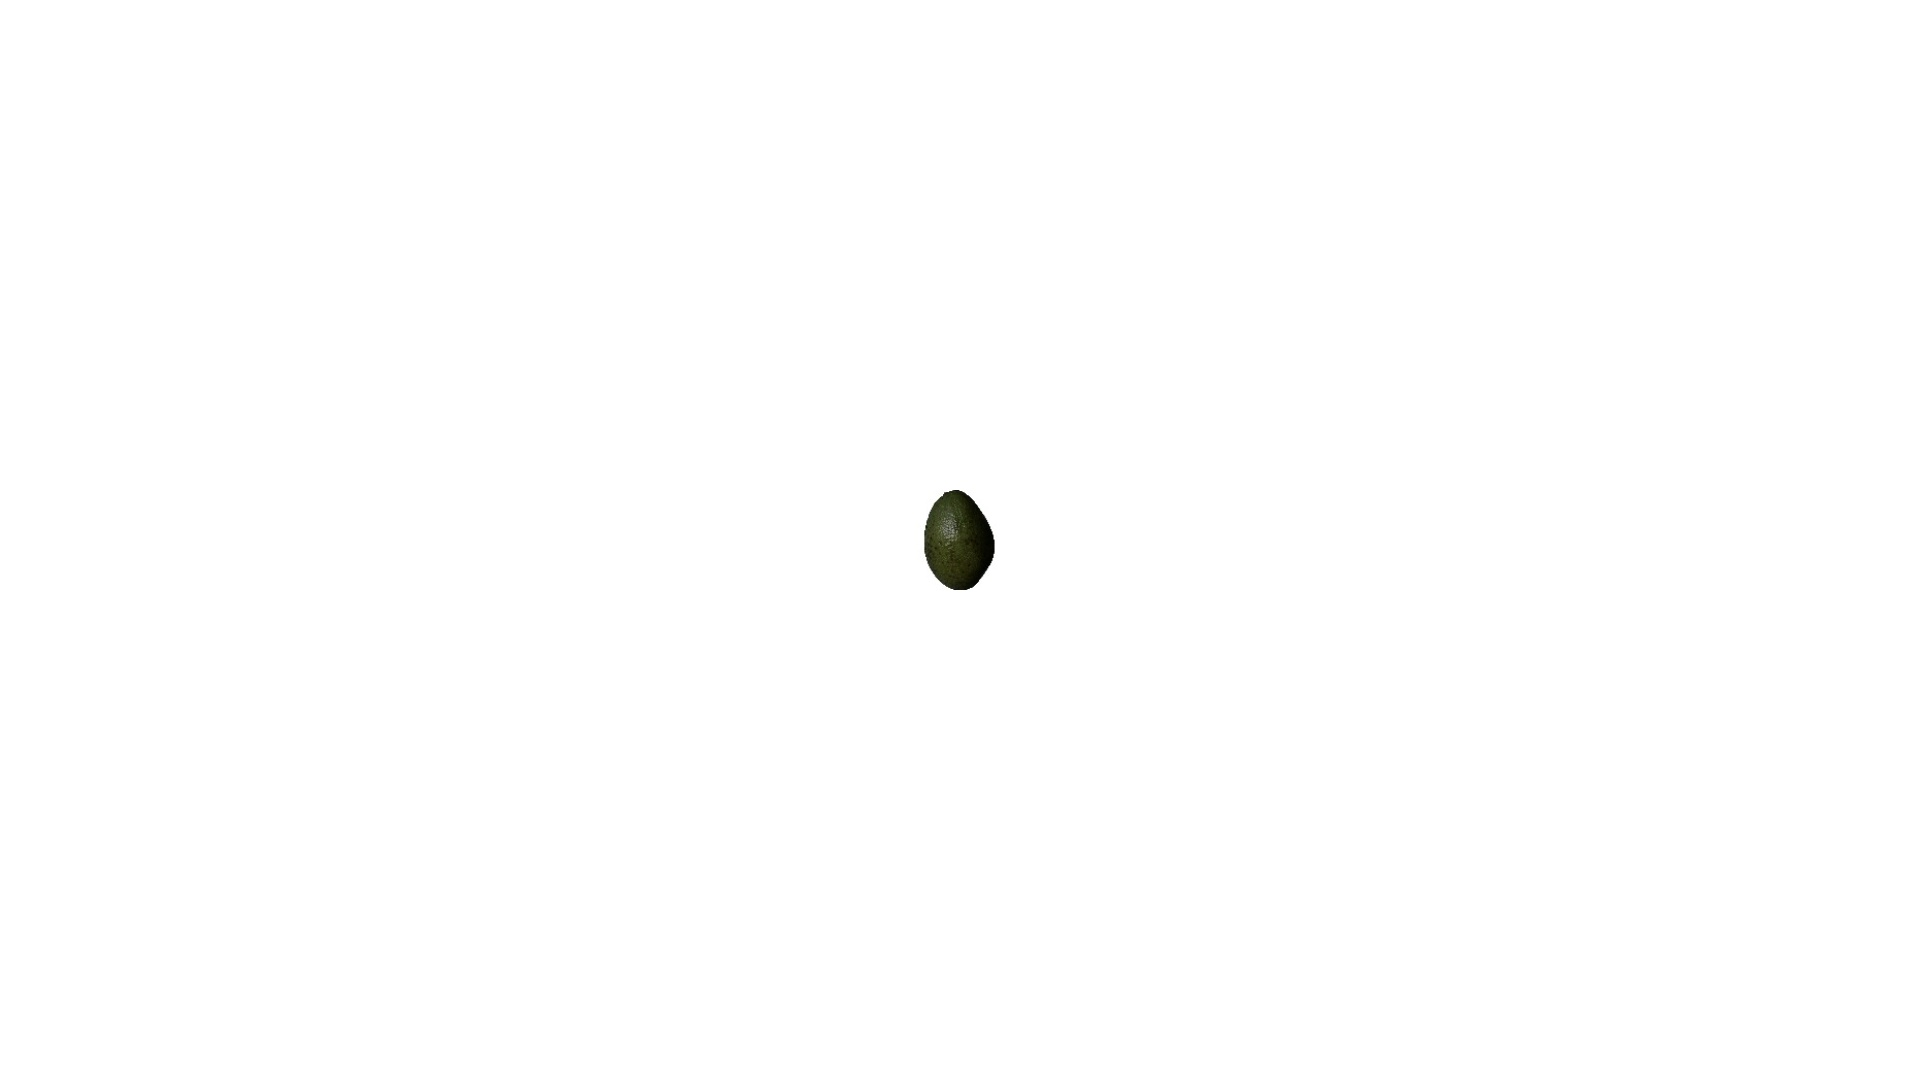abacate: (920, 487, 993, 592)
